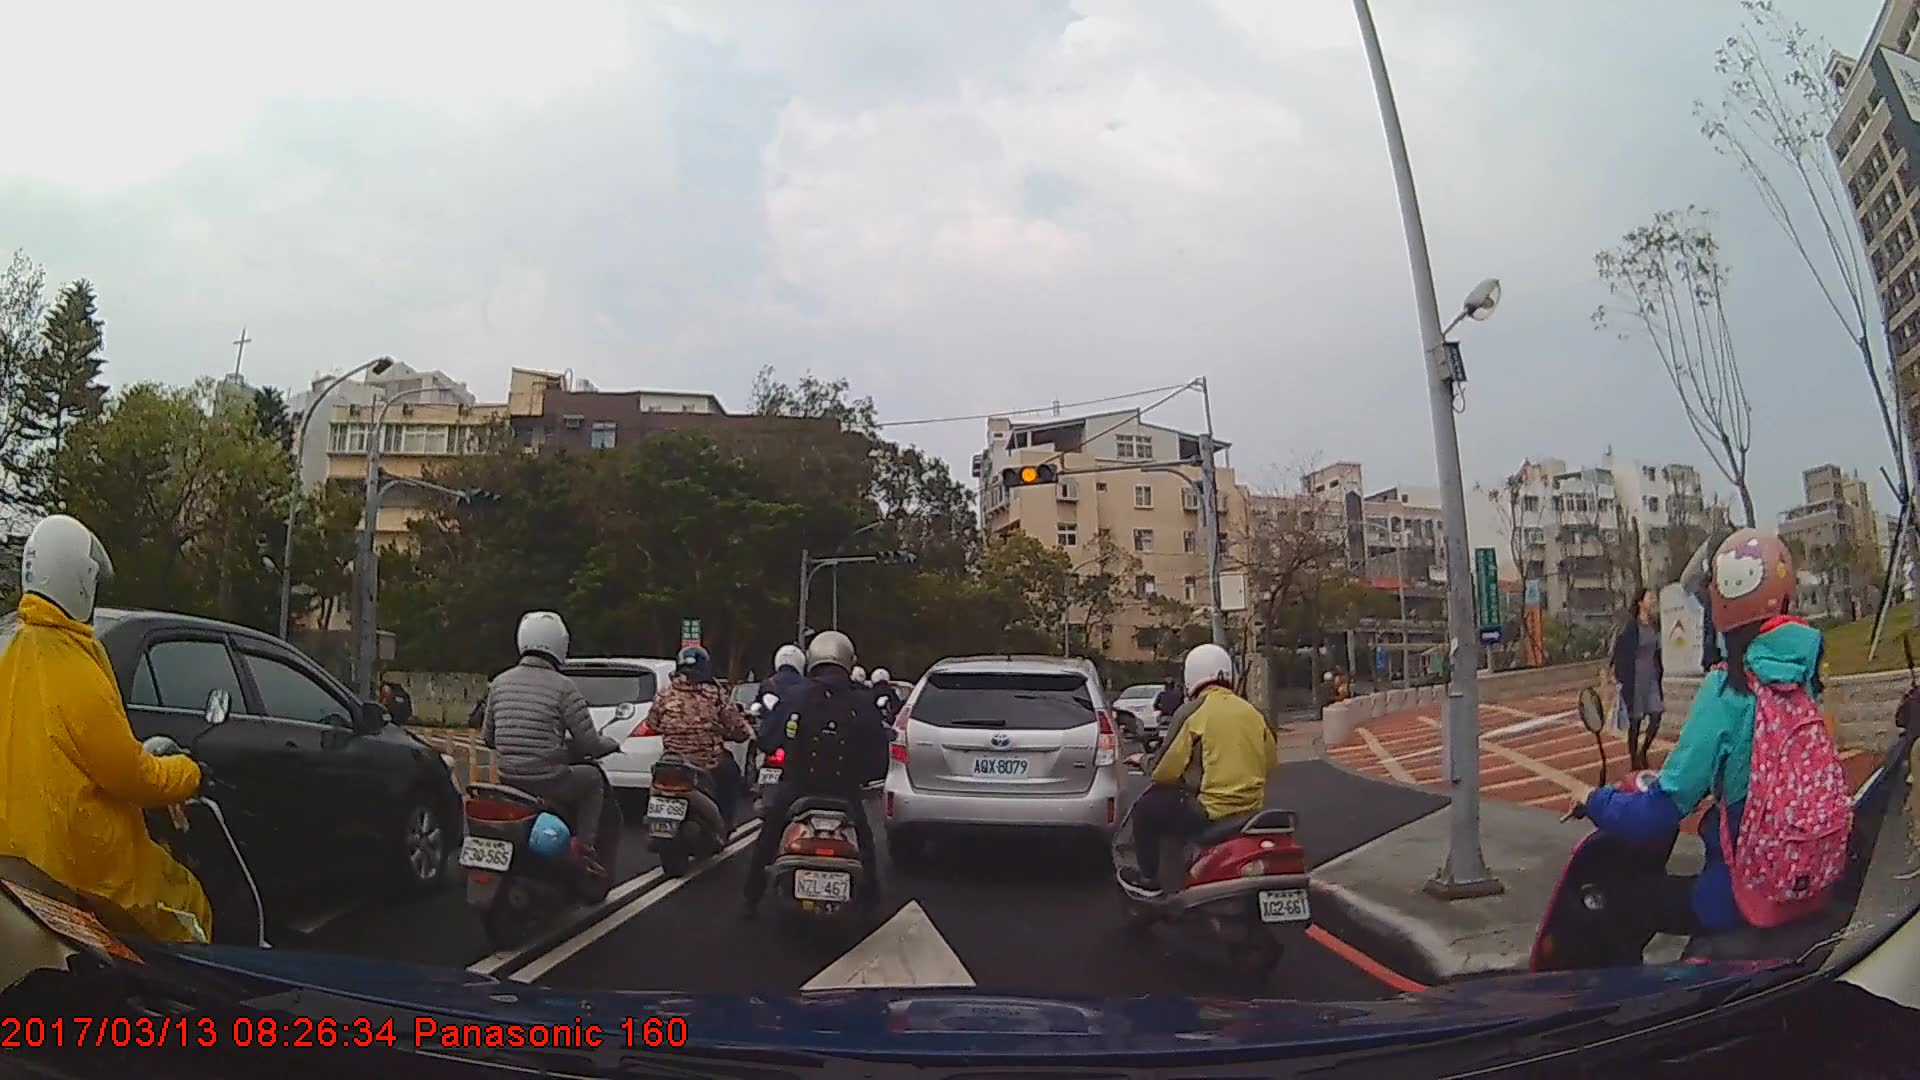pedestrian: (1602, 586, 1671, 792)
rider: (1539, 521, 1859, 1064), (1, 516, 295, 1052), (1108, 642, 1312, 976), (454, 607, 619, 952), (751, 631, 894, 953), (640, 643, 754, 877), (747, 639, 832, 841), (1154, 674, 1187, 756)
vehicle: (0, 604, 464, 938), (882, 653, 1131, 862), (522, 656, 761, 817), (1110, 680, 1195, 742)
